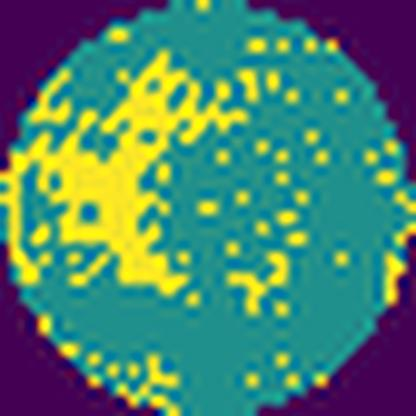Donut: (24, 52, 331, 321)
